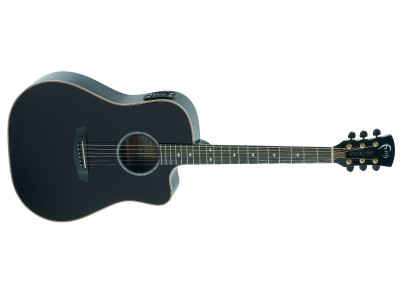guitar: (7, 70, 395, 224)
